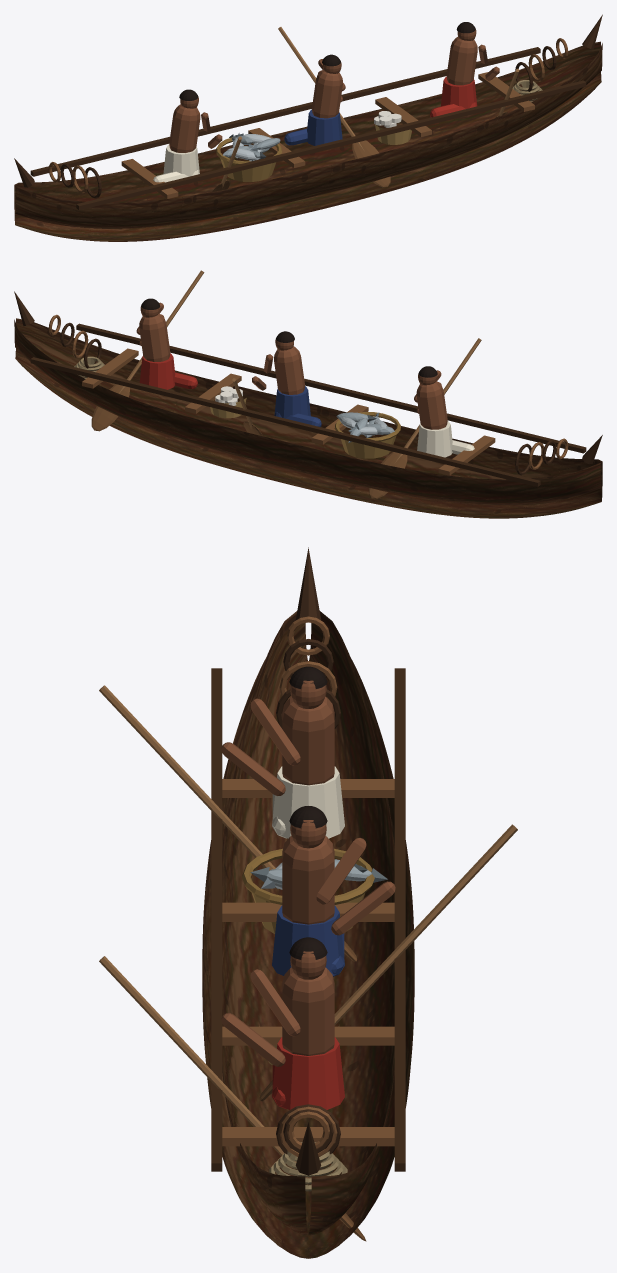
File: canoe.glb
3 renders of one model, top to bottom at view 1: azimuth 30°, elevation 25°; view 2: azimuth 150°, elevation 25°; view 3: azimuth 270°, elevation 25°, orthographic. The views are drawn at different scales.
Visible parts, largest first — view 1: hull, carving, paddlers, cargo; view 2: hull, carving, paddlers, cargo; view 3: hull, paddlers, carving, cargo.
Boxes of the visible parts, bbox=[...] form: hull: bbox=[14, 41, 602, 241]; carving: bbox=[14, 14, 602, 210]; paddlers: bbox=[153, 22, 519, 191]; cargo: bbox=[216, 80, 542, 181]; hull: bbox=[14, 318, 602, 518]; carving: bbox=[14, 291, 602, 486]; paddlers: bbox=[91, 270, 481, 498]; cargo: bbox=[74, 356, 400, 458]; hull: bbox=[202, 611, 414, 1258]; paddlers: bbox=[99, 666, 517, 1241]; carving: bbox=[211, 547, 405, 1175]; cargo: bbox=[242, 848, 387, 1191].
Bounding box in the file's own units: 7.43 × 1.75 × 2.29.
4 materials, 1 textured.
